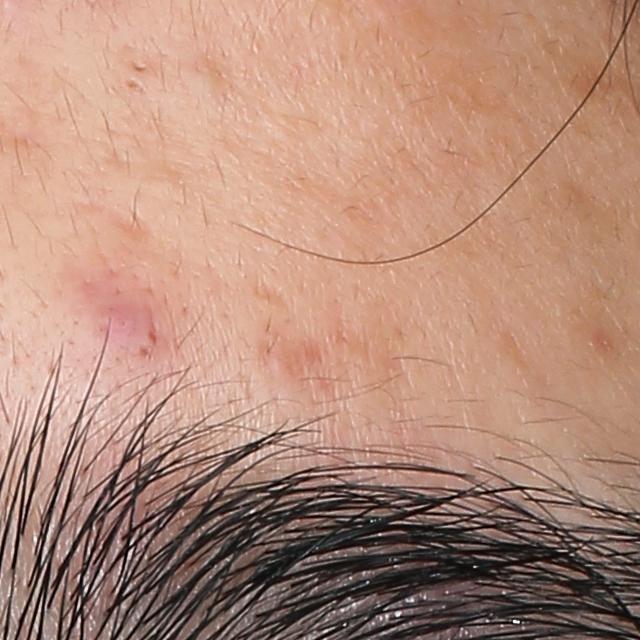atrophic_scar: (251, 274, 294, 323), (114, 204, 156, 246)
